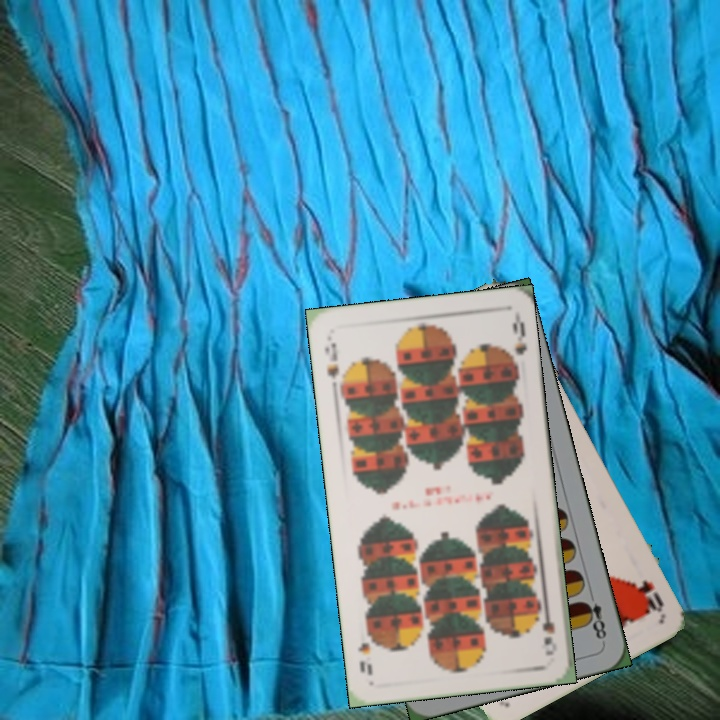E8: (578, 587, 609, 642)
HO: (630, 576, 666, 616)
S9: (533, 600, 559, 658), (320, 338, 341, 391)
